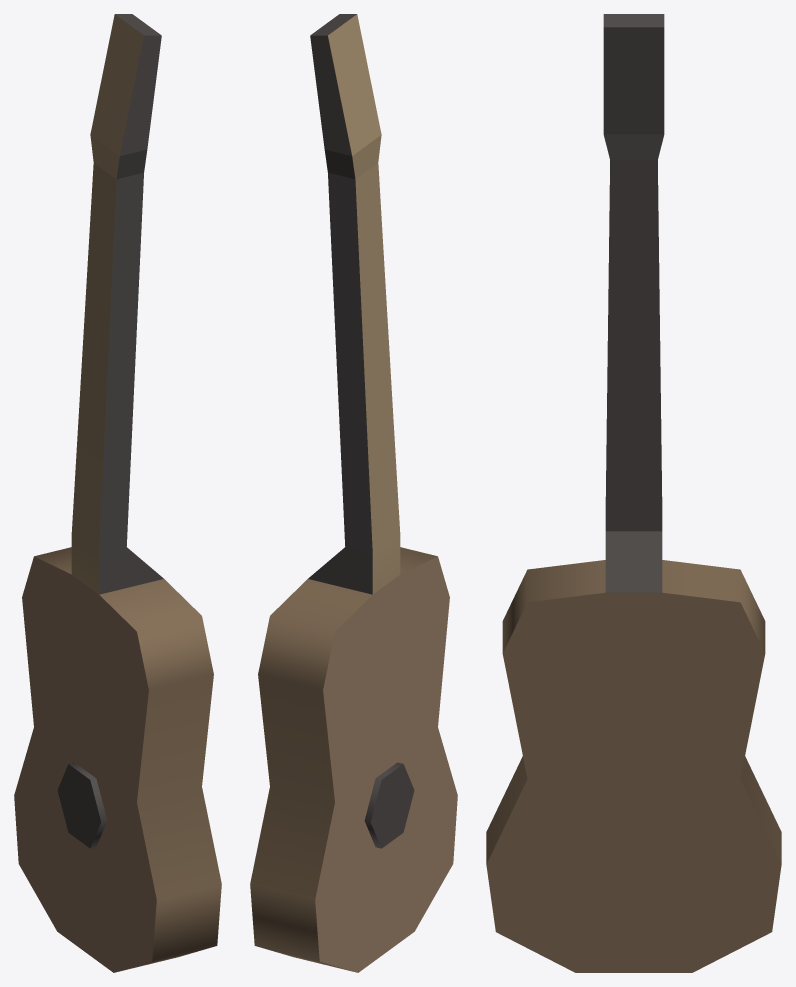
The model's file is P_guitar_01_LD.fbx.
3 views of the same model, side by side, from view 1: azimuth 30°, elevation 25°; view 2: azimuth 150°, elevation 25°; view 3: azimuth 270°, elevation 25° (orthographic). The views are drawn at different scales.
Parts seen in each view (by area): view 1: P_guitar_01; view 2: P_guitar_01; view 3: P_guitar_01.
Part boxes in pixels (left/top/right/bottom): P_guitar_01: left=14, top=14, right=221, bottom=972; P_guitar_01: left=250, top=14, right=457, bottom=972; P_guitar_01: left=486, top=14, right=781, bottom=972.
Bounding box in the file's own units: 0.1397 × 1.72 × 0.4854.
1 material, 1 textured.
